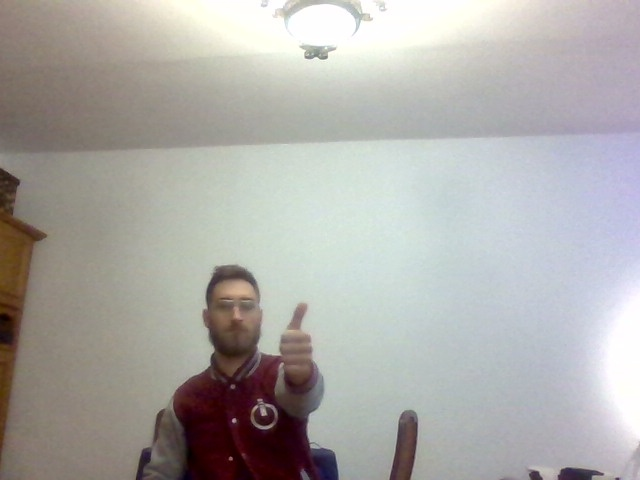ThumbsUp: (279, 302, 313, 375)
